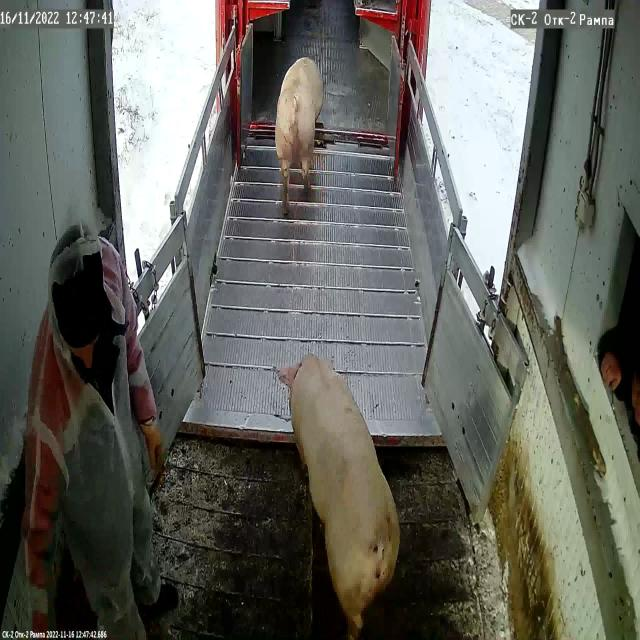pig: (277, 355, 401, 634), (275, 58, 325, 202)
